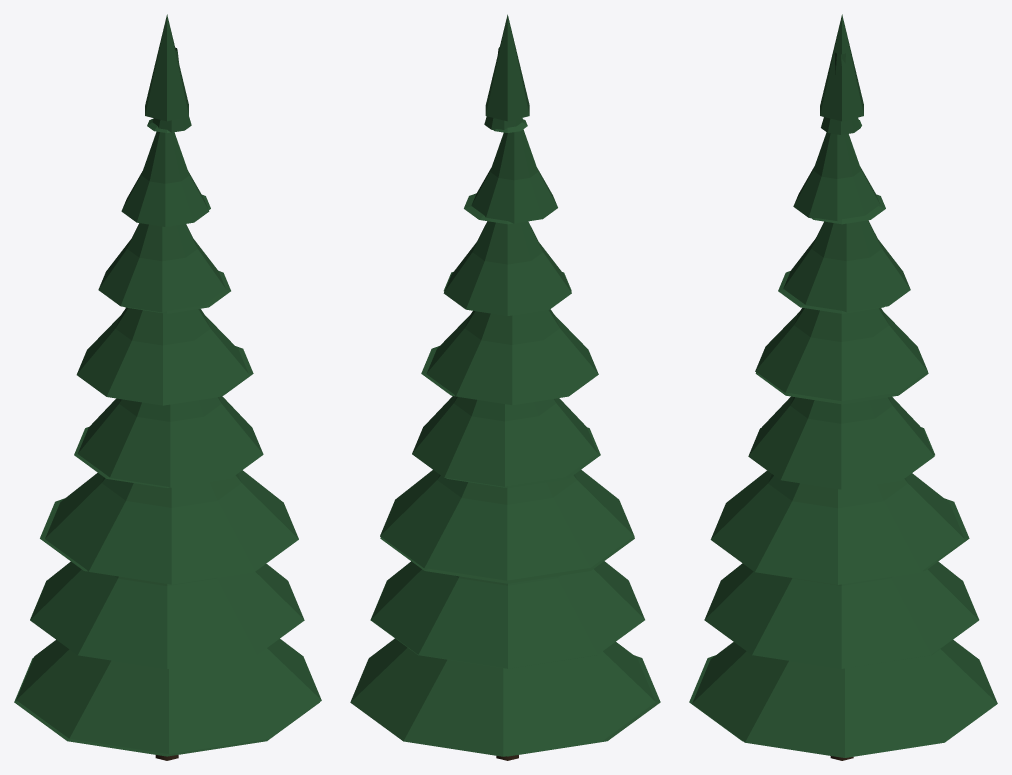
File: tree-spruce-1.glb
3 renders of one model, left to right at view 1: azimuth 30°, elevation 25°; view 2: azimuth 150°, elevation 25°; view 3: azimuth 270°, elevation 25°, orthographic.
Visible parts, largest first — view 1: 01_paint0; view 2: 01_paint0; view 3: 01_paint0.
Boxes of the visible parts, x1,y1,x2,y2 form: 01_paint0: (14,14,321,756); 01_paint0: (350,14,660,756); 01_paint0: (689,14,997,757).
Size of the model in its own units: 6 by 16.1 by 6.08.
